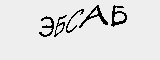А: (80, 2, 112, 31)
Б: (110, 2, 127, 28), (54, 12, 67, 39)
С: (64, 5, 86, 34)
Э: (36, 13, 56, 39)
